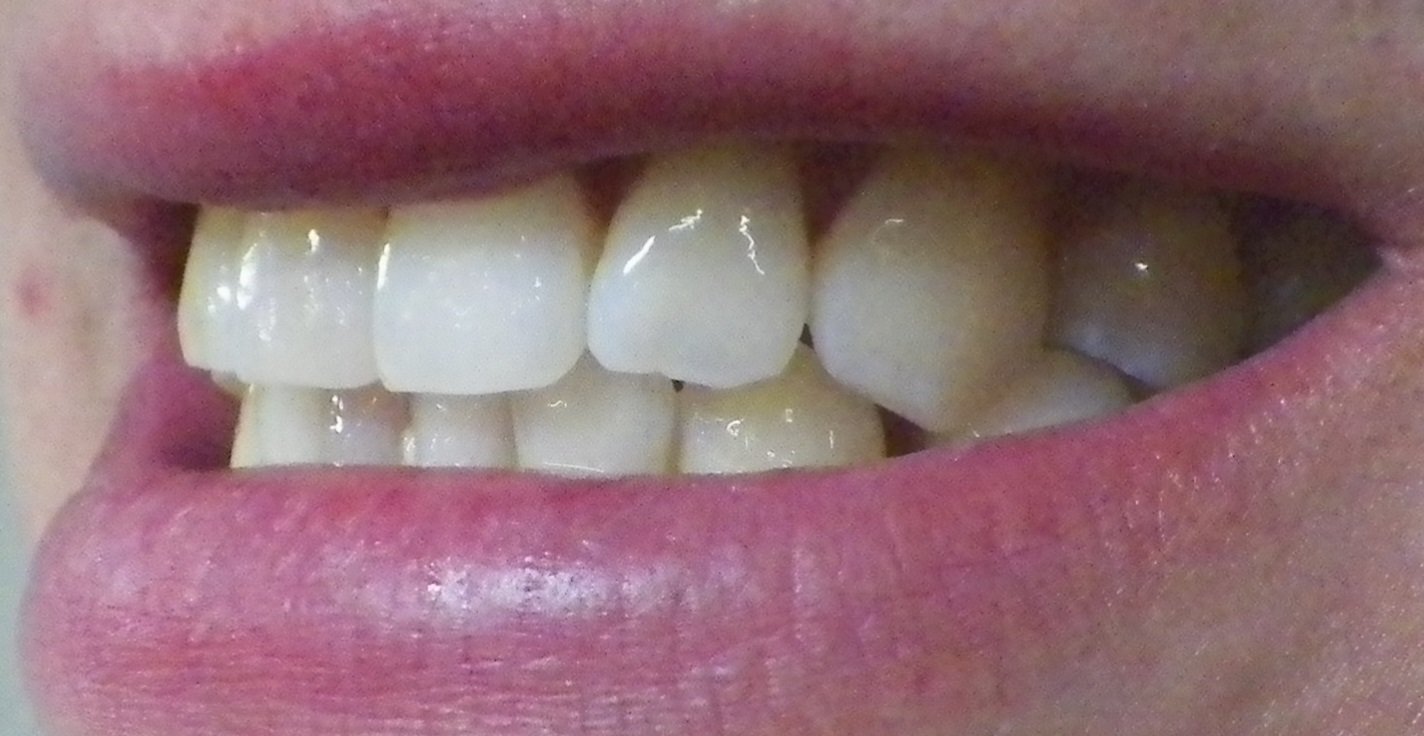boca: (178, 153, 1306, 475)
